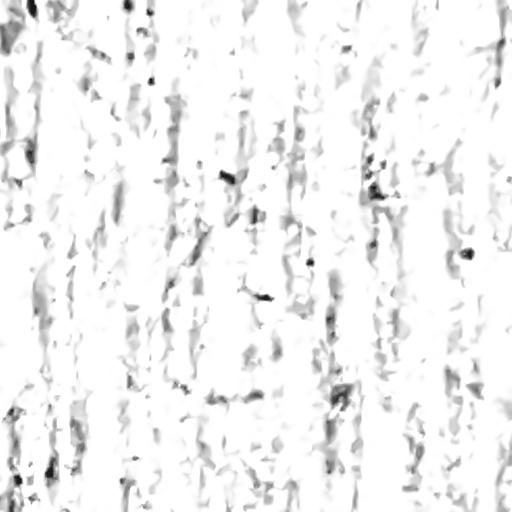egg: (368, 182, 385, 200), (219, 170, 235, 184), (27, 0, 37, 17), (254, 293, 273, 300)
